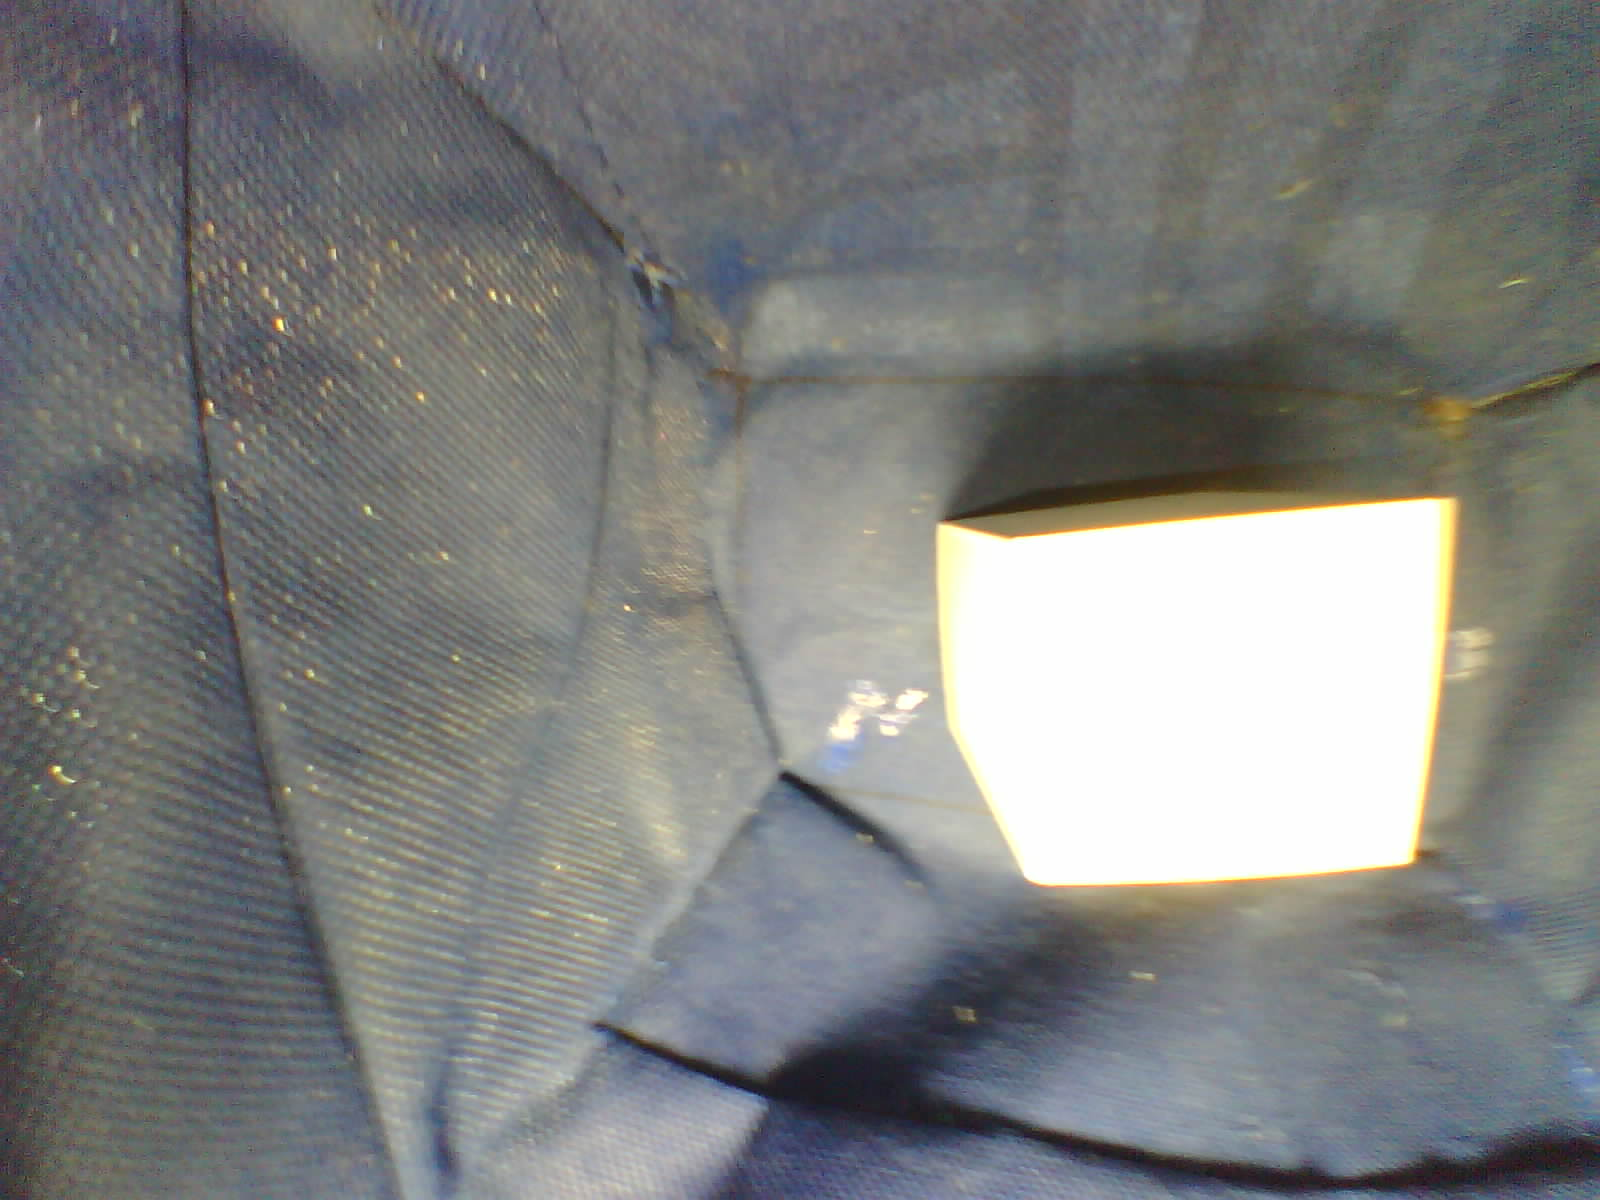cube-hard: (920, 459, 1487, 906)
